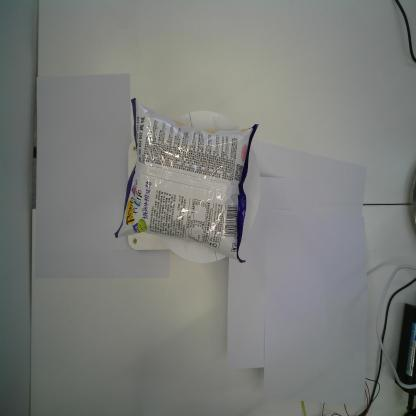Puffed Food: (115, 96, 258, 263)
